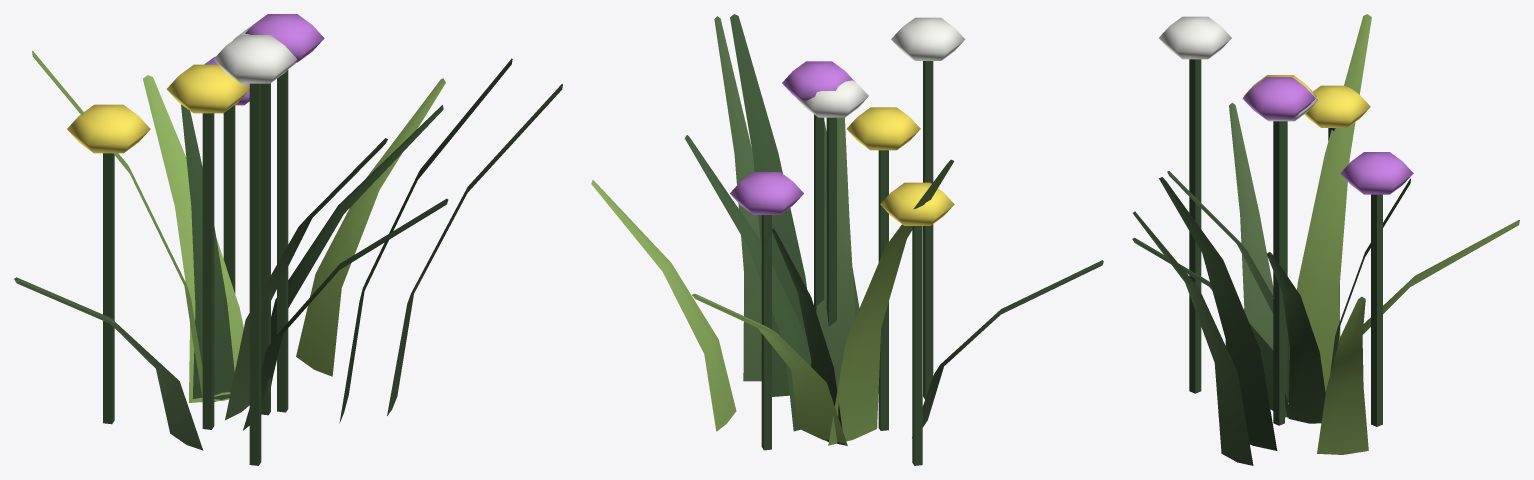
File: deco_flowers.glb
3 renders of one model, left to right at view 1: azimuth 30°, elevation 25°; view 2: azimuth 150°, elevation 25°; view 3: azimuth 270°, elevation 25°, orthographic. The views are drawn at different scales.
Visible parts, largest first — view 1: body; view 2: body; view 3: body.
Boxes of the visible parts, bbox=[...] form: body: bbox=[14, 14, 562, 465]; body: bbox=[591, 14, 1103, 465]; body: bbox=[1132, 14, 1519, 465].
Bounding box in the file's own units: 0.6906 × 0.5603 × 0.5285.
